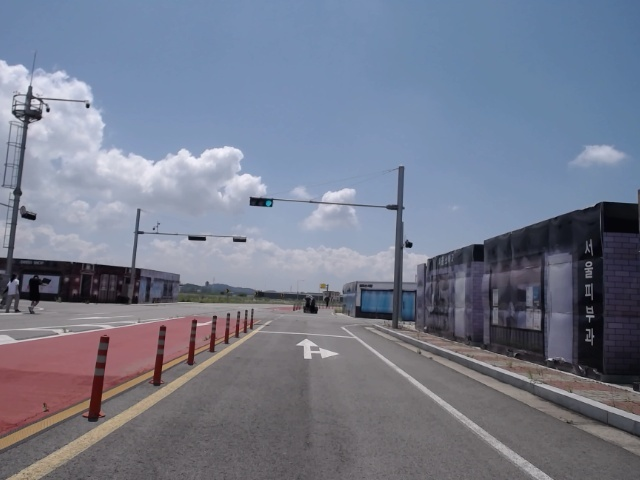green_3: (251, 198, 273, 207)
